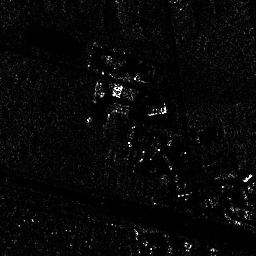ship: (92, 82, 141, 102), (145, 105, 170, 116)
